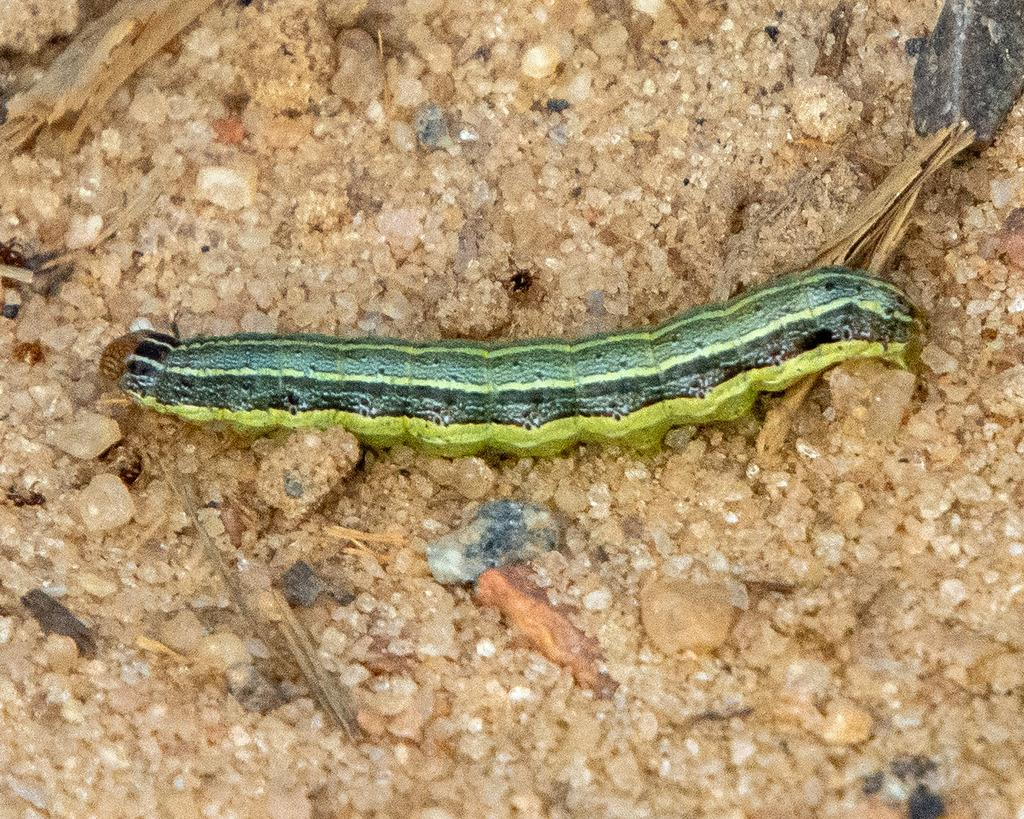caterpillars: (78, 213, 962, 530)
